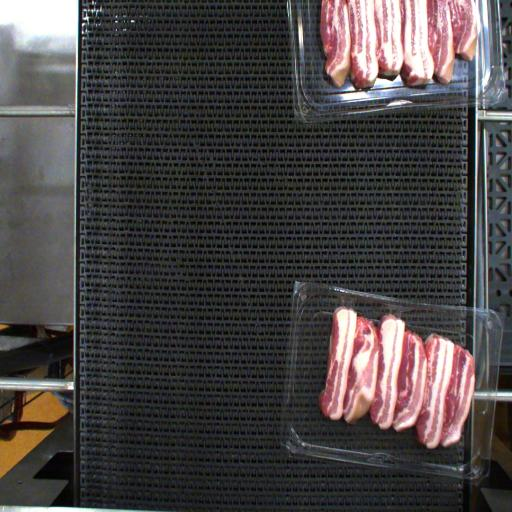packaging-error: (338, 293, 355, 312), (386, 307, 404, 320)
